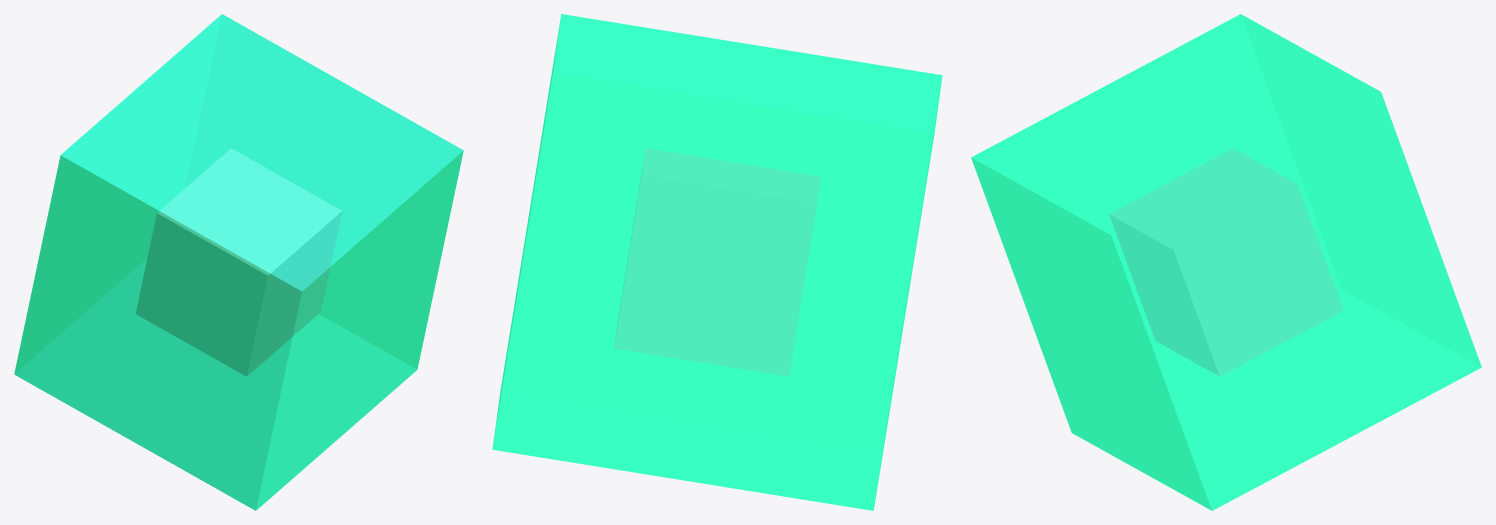
File: vennet-product-capsule.glb
The picture shows the model from 3 angles, left to right: view 1: azimuth 30°, elevation 25°; view 2: azimuth 150°, elevation 25°; view 3: azimuth 270°, elevation 25°; orthographic projection. The views are drawn at different scales.
Parts seen in each view (by area): view 1: Product_Shell_Emerald, Product_Core_Chrome; view 2: Product_Shell_Emerald, Product_Core_Chrome; view 3: Product_Shell_Emerald, Product_Core_Chrome.
Part boxes in pixels (x1,y1,x2,y2): Product_Shell_Emerald: (14, 14, 463, 510); Product_Core_Chrome: (136, 148, 341, 376); Product_Shell_Emerald: (492, 14, 942, 510); Product_Core_Chrome: (614, 148, 820, 376); Product_Shell_Emerald: (971, 14, 1481, 510); Product_Core_Chrome: (1109, 148, 1343, 376).
Size of the model in its own units: 2.7 by 2.75 by 3.19.
